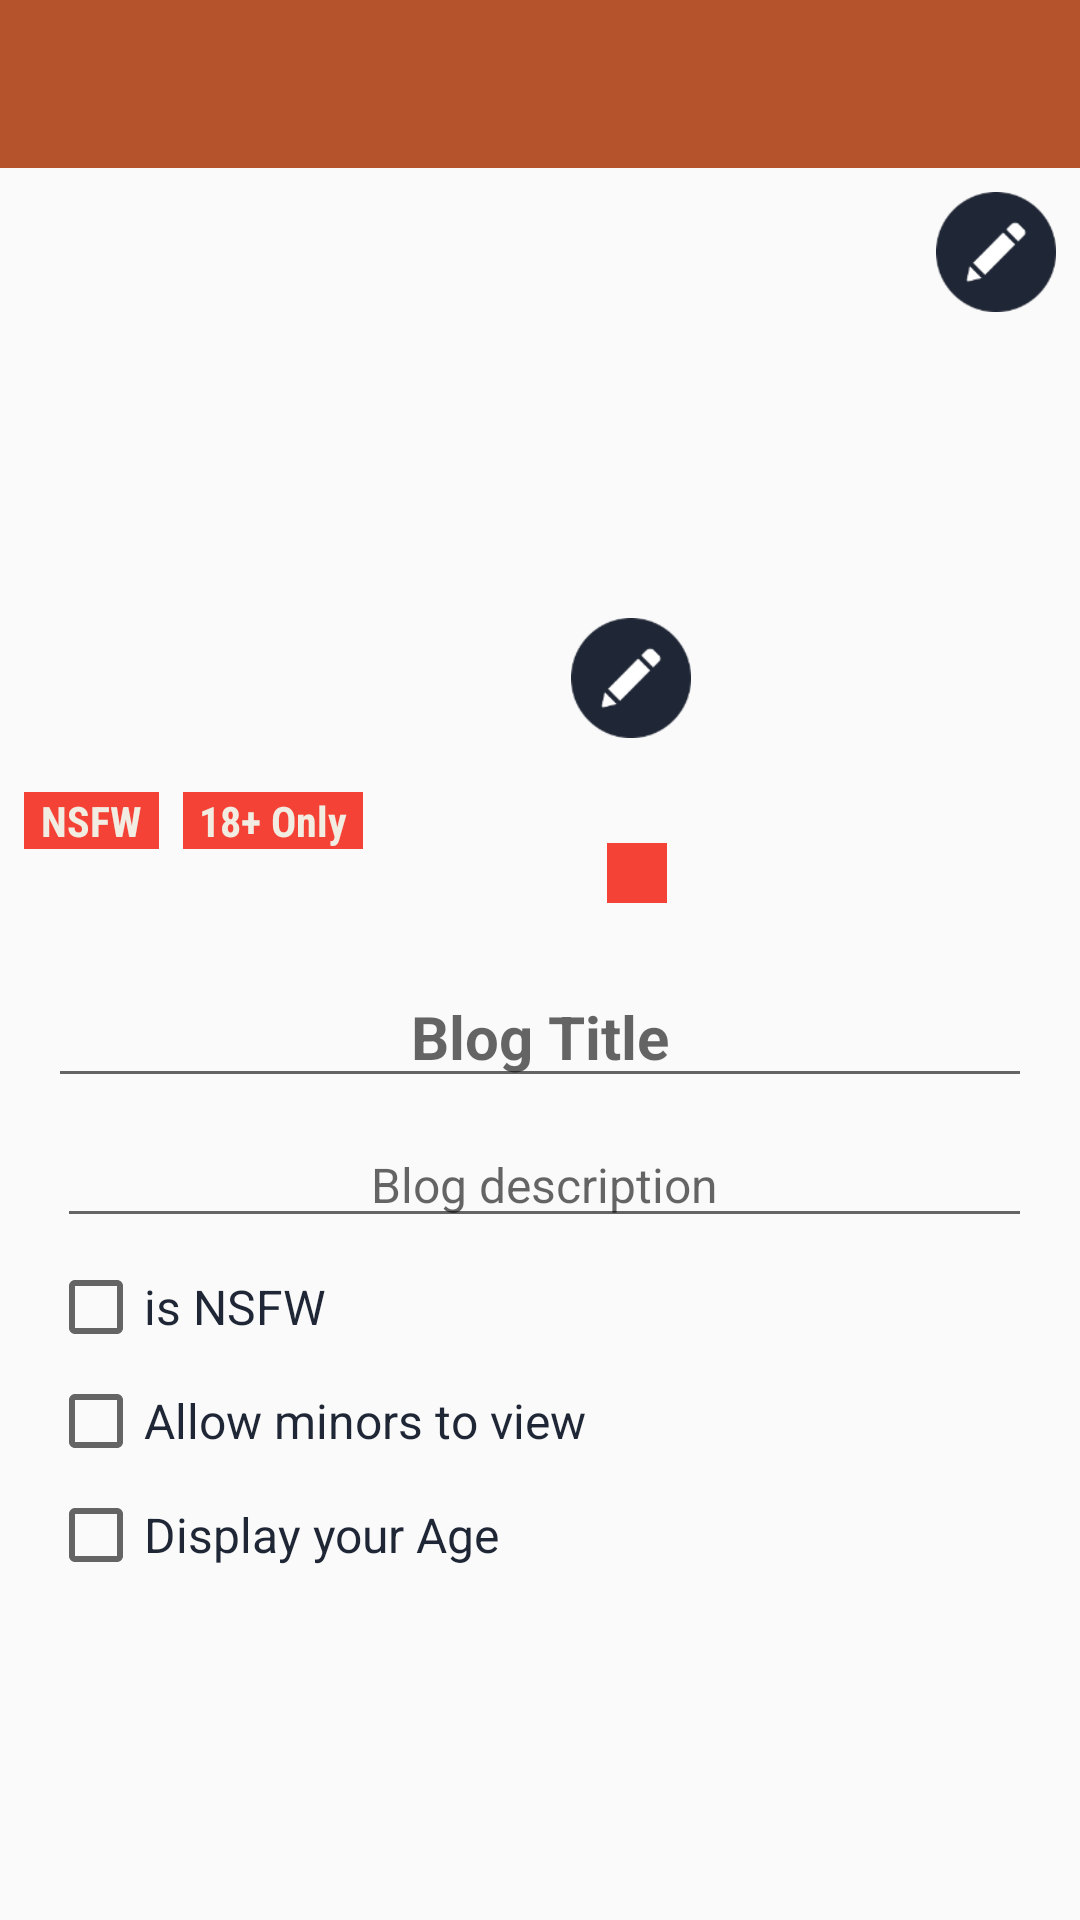

Named icons in this screenshot (1080px x 1920px) and their bounding boxes, (x1, y1, x2, y2):
edit: (936, 192, 1056, 312), (571, 618, 691, 738)
